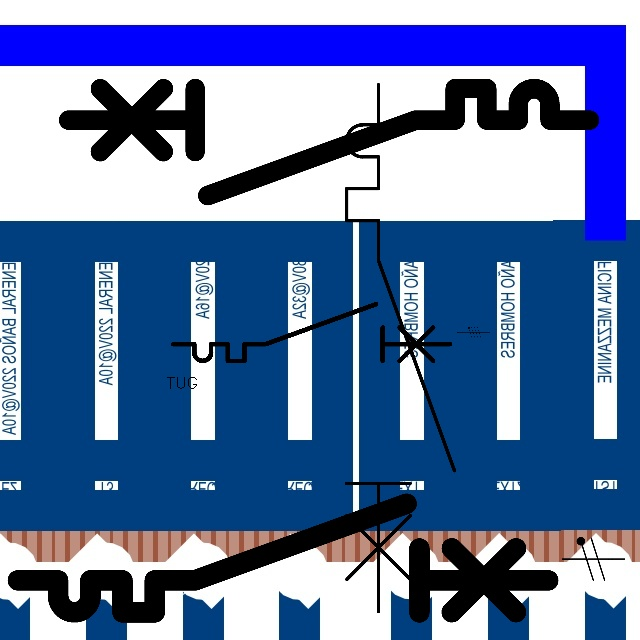interruptor_termomagnetico: (4, 490, 561, 626), (333, 71, 468, 624), (55, 75, 603, 209), (166, 297, 457, 368)
